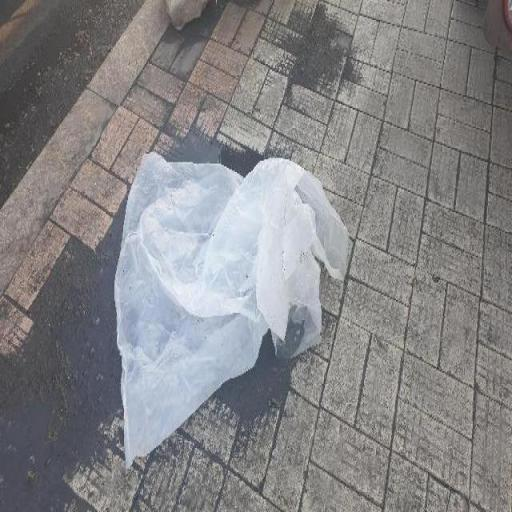plastic-bag: (113, 144, 353, 474)
